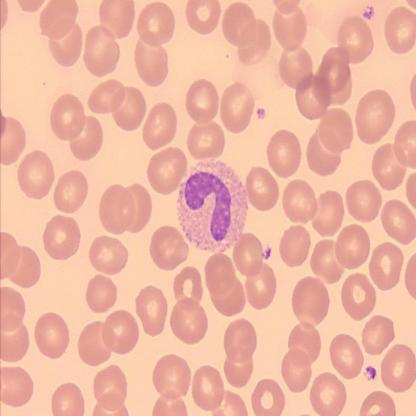Band Neutrophil: (174, 156, 251, 256)
